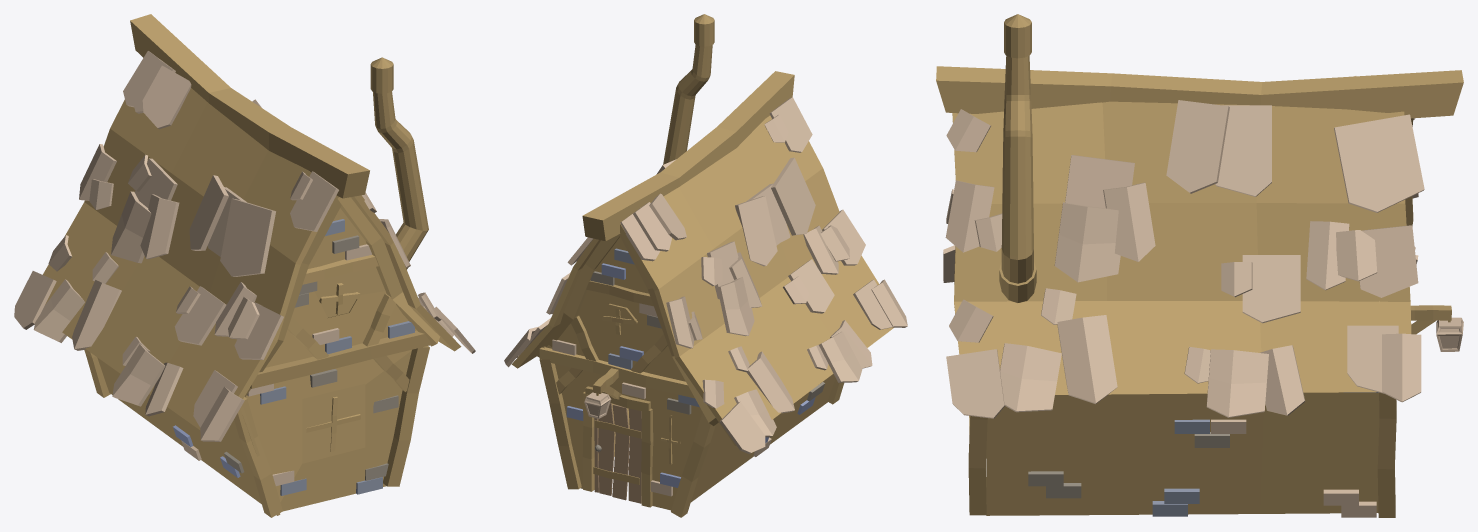
Rendered from house village 1.fbx.
3 views of the same model, side by side, from view 1: azimuth 30°, elevation 25°; view 2: azimuth 150°, elevation 25°; view 3: azimuth 270°, elevation 25° (orthographic). The views are drawn at different scales.
Visible parts, largest first — view 1: Plane.002; view 2: Plane.002; view 3: Plane.002.
Boxes of the visible parts, x1=… form: Plane.002: x1=14, y1=14, x2=475, y2=517; Plane.002: x1=504, y1=14, x2=907, y2=517; Plane.002: x1=936, y1=14, x2=1463, y2=517.
Bounding box in the file's own units: 452 × 595 × 561.
